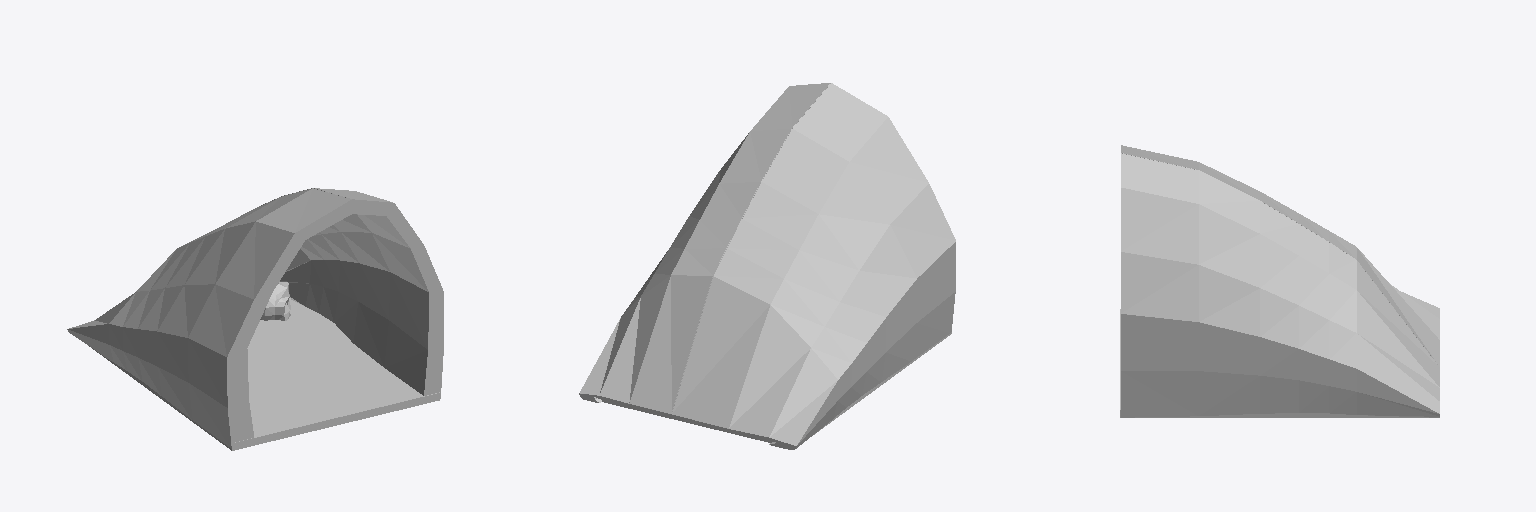
Rendered from OreMine.obj.
The picture shows the model from 3 angles: view 1: azimuth 30°, elevation 25°; view 2: azimuth 150°, elevation 25°; view 3: azimuth 270°, elevation 25°; orthographic projection.
Parts seen in each view (by area): view 1: polySurface3; view 2: polySurface3; view 3: polySurface3.
Boxes of the visible parts, <box> form: polySurface3: <box>67,188,443,450</box>; polySurface3: <box>579,83,955,449</box>; polySurface3: <box>1120,145,1439,417</box>.
Size of the model in its own units: 4.54 by 4.44 by 5.8.